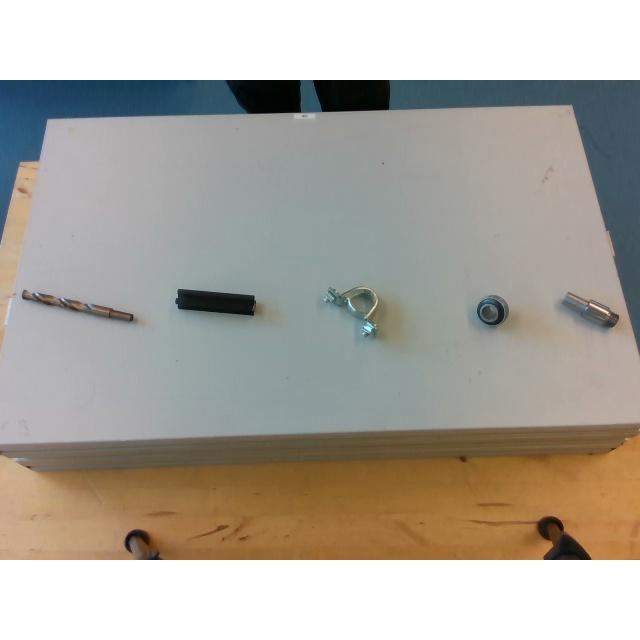Axis2: (561, 292, 619, 328)
Bearing2: (476, 294, 509, 326)
Drill: (20, 288, 134, 324)
F20_20_B: (174, 288, 253, 314)
Housing: (324, 286, 380, 334)
